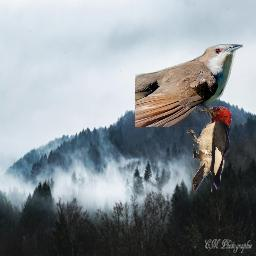Cuckoo: (135, 44, 243, 127)
Woodpecker: (186, 106, 232, 194)
